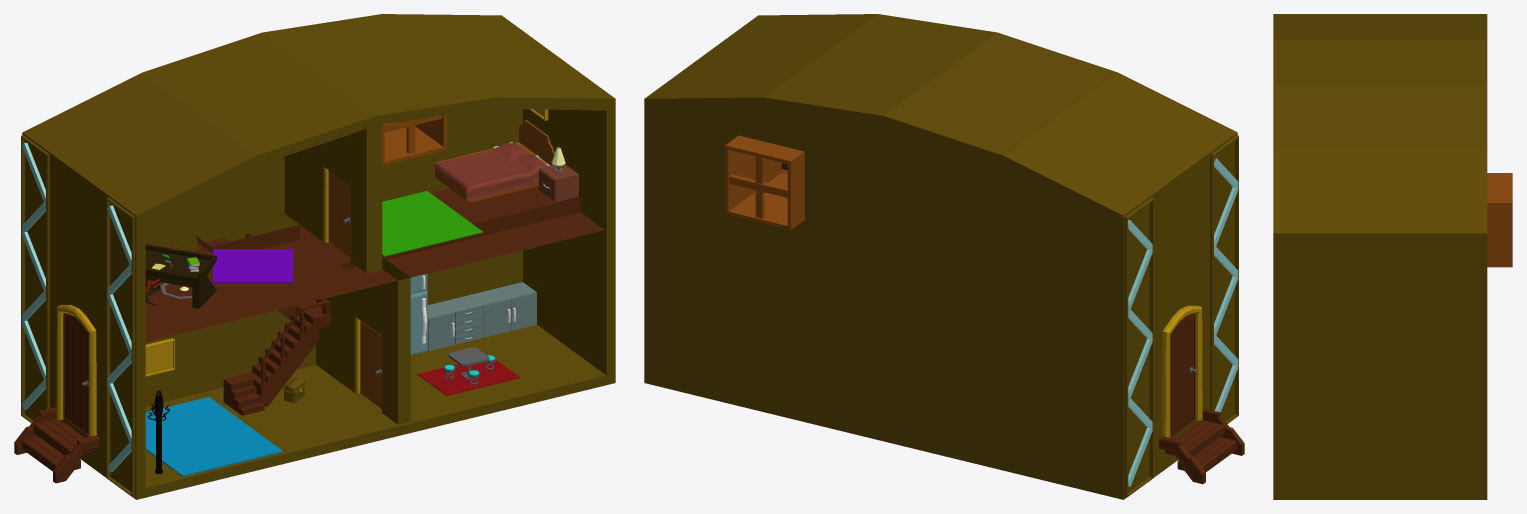
The model's file is düzenlendiev.fbx.
3 renders of one model, left to right at view 1: azimuth 30°, elevation 25°; view 2: azimuth 150°, elevation 25°; view 3: azimuth 270°, elevation 25°, orthographic. The views are drawn at different scales.
Visible parts, largest first — view 1: Cube, Plane.003, Plane.004, Cube.008, Cube.012, Plane.007, Plane.006, Plane, Plane.008, Cube.031, Cube.030, Cube.005 (+8 smaller); view 2: Cube, Cube.030, Plane, Cube.005; view 3: Cube, Cube.030.
Boxes of the visible parts, box(x1,y1,x2,y2) form: Cube: box(14, 14, 615, 499); Plane.003: box(145, 186, 604, 341); Plane.004: box(145, 397, 282, 476); Cube.008: box(196, 233, 330, 415); Cube.012: box(427, 282, 536, 351); Plane.007: box(382, 191, 483, 256); Plane.006: box(435, 142, 547, 201); Plane: box(63, 313, 88, 436); Plane.008: box(213, 249, 293, 282); Cube.031: box(145, 244, 216, 308); Cube.030: box(382, 115, 446, 165); Cube.005: box(56, 305, 96, 436); Cube: box(644, 14, 1244, 499); Cube.030: box(725, 135, 804, 229); Plane: box(1170, 314, 1196, 437); Cube.005: box(1162, 305, 1202, 437); Cube: box(1273, 14, 1487, 499); Cube.030: box(1487, 173, 1512, 267).
Bounding box in the file's own units: 2451 × 1457 × 1035.
